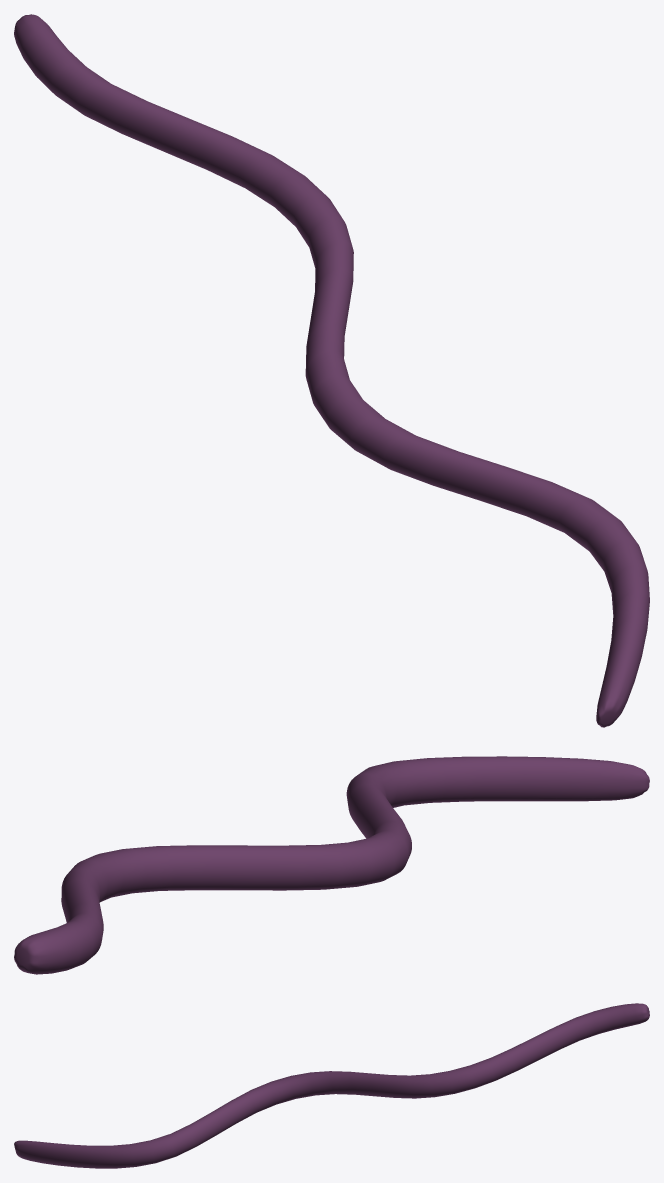
File: frame_5.obj
3 renders of one model, top to bottom at view 1: azimuth 30°, elevation 25°; view 2: azimuth 150°, elevation 25°; view 3: azimuth 270°, elevation 25°, orthographic. The views are drawn at different scales.
Visible parts, largest first — view 1: worm2; view 2: worm2; view 3: worm2.
Boxes of the visible parts, x1=… form: worm2: x1=14, y1=14, x2=649, y2=727; worm2: x1=14, y1=756, x2=649, y2=974; worm2: x1=14, y1=1003, x2=649, y2=1168.
Bounding box in the file's own units: 279 × 458 × 1726.
